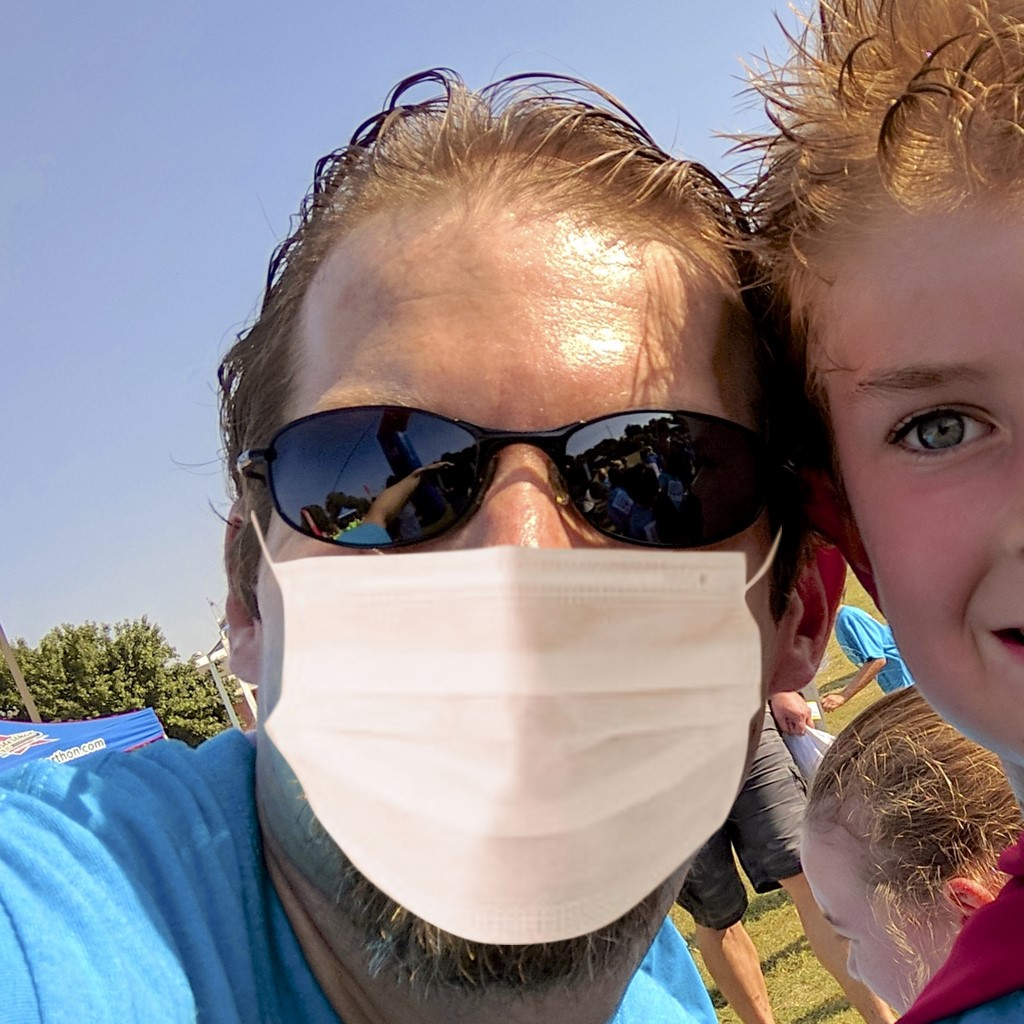con_mascara: (236, 90, 843, 991)
